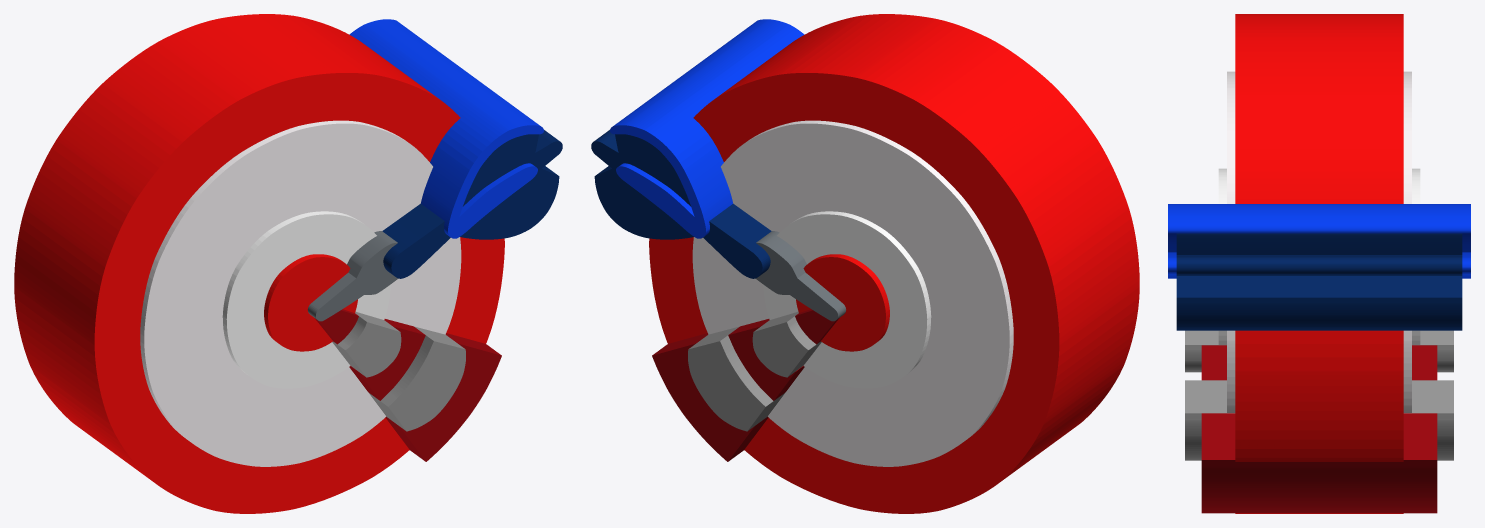
The picture shows the model from 3 angles, left to right: view 1: azimuth 30°, elevation 25°; view 2: azimuth 150°, elevation 25°; view 3: azimuth 270°, elevation 25°; orthographic projection. The views are drawn at different scales.
Parts seen in each view (by area): view 1: U+1F3AF_layer00_obj00, U+1F3AF_layer01_obj00, U+1F3AF_layer08_obj00, U+1F3AF_layer02_obj00, U+1F3AF_layer07_obj00, U+1F3AF_layer03_obj00, U+1F3AF_layer06_obj01, U+1F3AF_layer04_obj02, U+1F3AF_layer05_obj00, U+1F3AF_layer06_obj00, U+1F3AF_layer04_obj01, U+1F3AF_layer04_obj00; view 2: U+1F3AF_layer00_obj00, U+1F3AF_layer01_obj00, U+1F3AF_layer08_obj00, U+1F3AF_layer02_obj00, U+1F3AF_layer07_obj00, U+1F3AF_layer03_obj00, U+1F3AF_layer06_obj01, U+1F3AF_layer04_obj02, U+1F3AF_layer05_obj00, U+1F3AF_layer06_obj00, U+1F3AF_layer04_obj01, U+1F3AF_layer04_obj00; view 3: U+1F3AF_layer00_obj00, U+1F3AF_layer07_obj00, U+1F3AF_layer04_obj02, U+1F3AF_layer08_obj00, U+1F3AF_layer06_obj01, U+1F3AF_layer01_obj00, U+1F3AF_layer06_obj00, U+1F3AF_layer04_obj01, U+1F3AF_layer02_obj00.
Boxes of the visible parts, x1,y1,x2,y2 form: U+1F3AF_layer00_obj00: (14, 14, 504, 513); U+1F3AF_layer01_obj00: (140, 120, 461, 466); U+1F3AF_layer08_obj00: (349, 19, 543, 238); U+1F3AF_layer02_obj00: (222, 211, 390, 388); U+1F3AF_layer07_obj00: (382, 130, 562, 278); U+1F3AF_layer03_obj00: (264, 254, 357, 351); U+1F3AF_layer06_obj01: (368, 326, 465, 431); U+1F3AF_layer04_obj02: (385, 333, 501, 461); U+1F3AF_layer05_obj00: (307, 231, 398, 321); U+1F3AF_layer06_obj00: (332, 311, 401, 377); U+1F3AF_layer04_obj01: (349, 319, 425, 400); U+1F3AF_layer04_obj00: (314, 309, 358, 344); U+1F3AF_layer00_obj00: (649, 14, 1139, 513); U+1F3AF_layer01_obj00: (692, 120, 1013, 466); U+1F3AF_layer08_obj00: (610, 19, 804, 238); U+1F3AF_layer02_obj00: (763, 211, 931, 388); U+1F3AF_layer07_obj00: (591, 130, 771, 278); U+1F3AF_layer03_obj00: (796, 254, 889, 351); U+1F3AF_layer06_obj01: (688, 326, 785, 431); U+1F3AF_layer04_obj02: (652, 333, 768, 461); U+1F3AF_layer05_obj00: (755, 231, 846, 321); U+1F3AF_layer06_obj00: (752, 311, 821, 377); U+1F3AF_layer04_obj01: (728, 319, 804, 400); U+1F3AF_layer04_obj00: (795, 309, 839, 344); U+1F3AF_layer00_obj00: (1235, 14, 1403, 513); U+1F3AF_layer07_obj00: (1176, 233, 1462, 330); U+1F3AF_layer04_obj02: (1201, 413, 1437, 513); U+1F3AF_layer08_obj00: (1168, 204, 1470, 278); U+1F3AF_layer06_obj01: (1185, 380, 1453, 460); U+1F3AF_layer01_obj00: (1227, 71, 1411, 412); U+1F3AF_layer06_obj00: (1185, 330, 1453, 372); U+1F3AF_layer04_obj01: (1201, 345, 1437, 380); U+1F3AF_layer02_obj00: (1218, 168, 1420, 344).
Size of the model in its own units: 0.316 by 0.2954 by 0.18.
